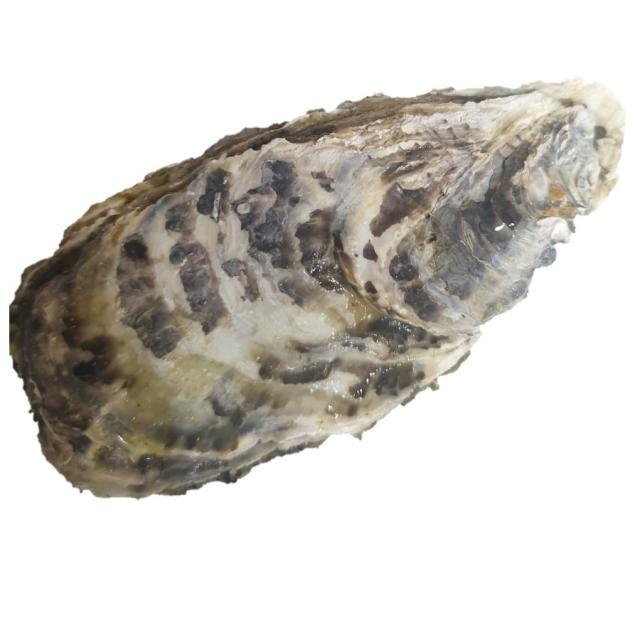Oyster- Indeterminate: (2, 70, 634, 507)
